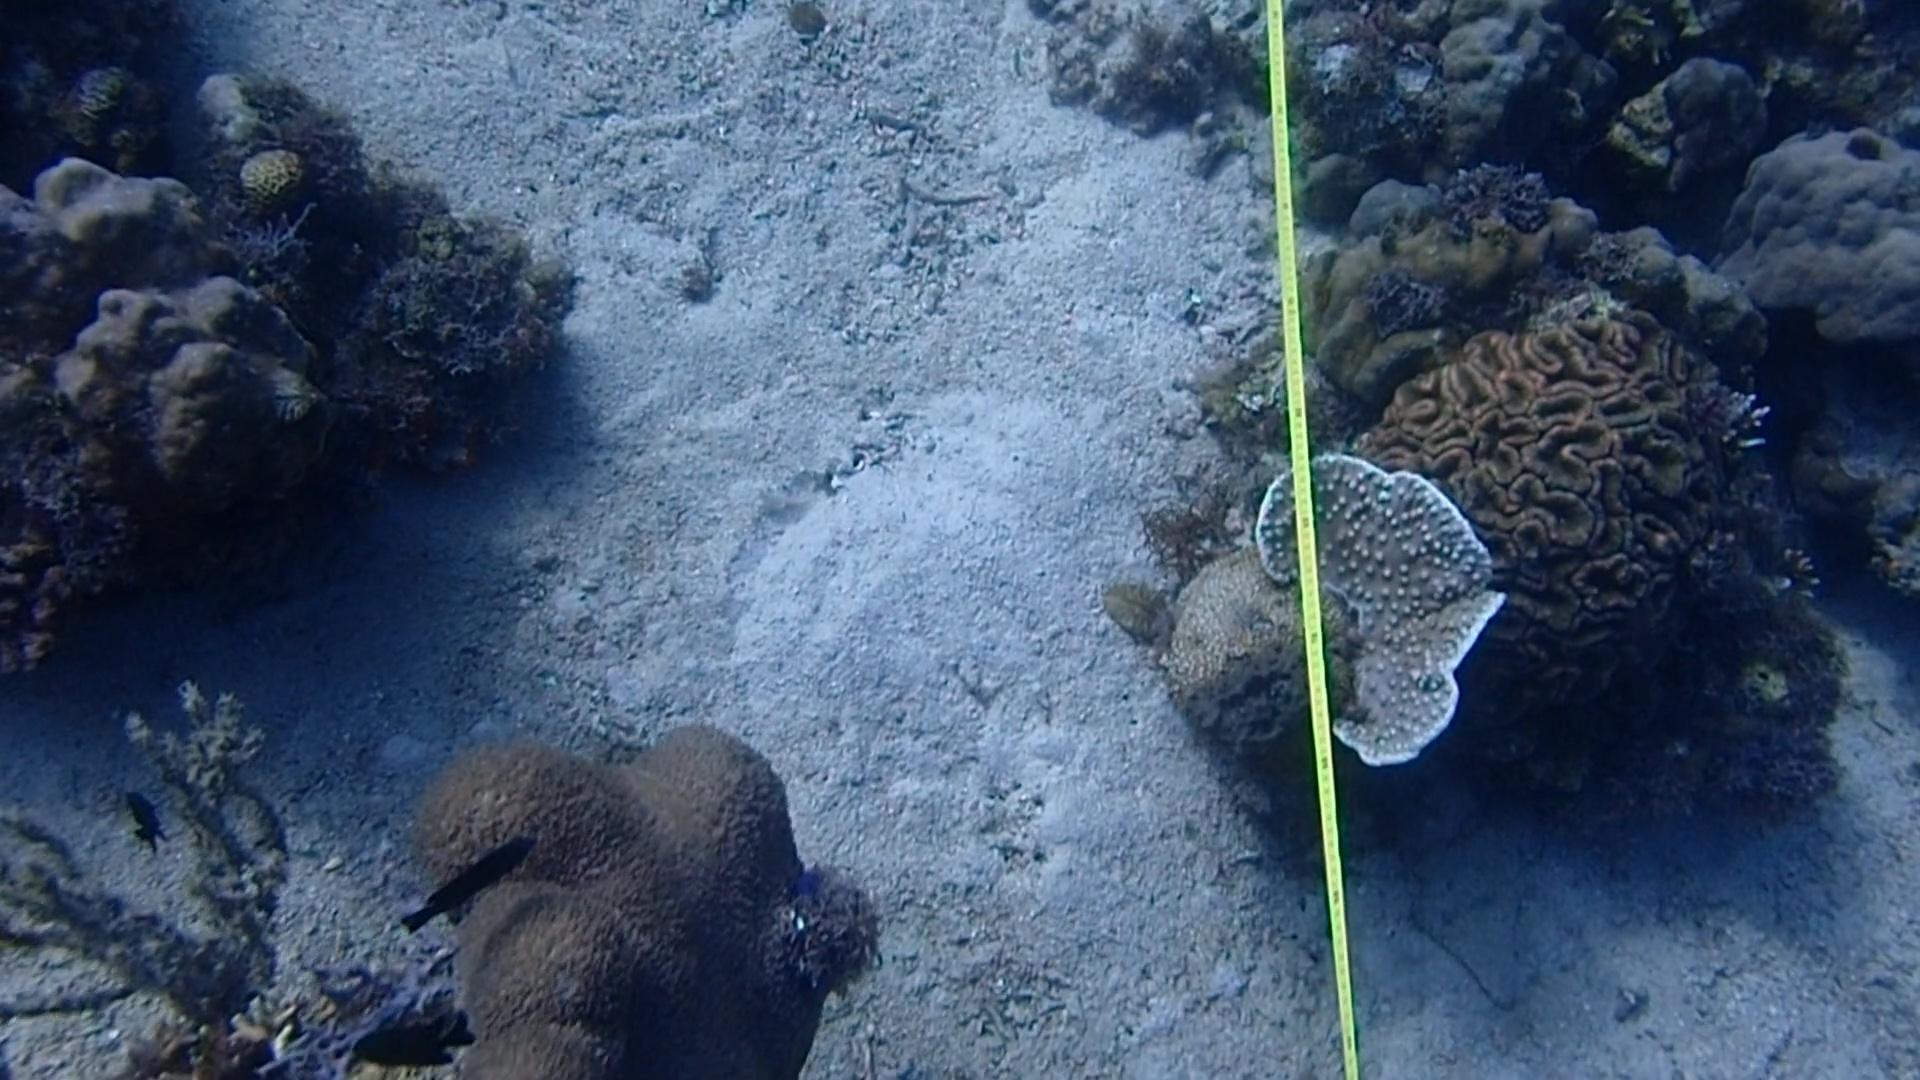Dark Fish: (389, 827, 542, 943), (326, 1002, 479, 1075), (105, 775, 182, 861)
